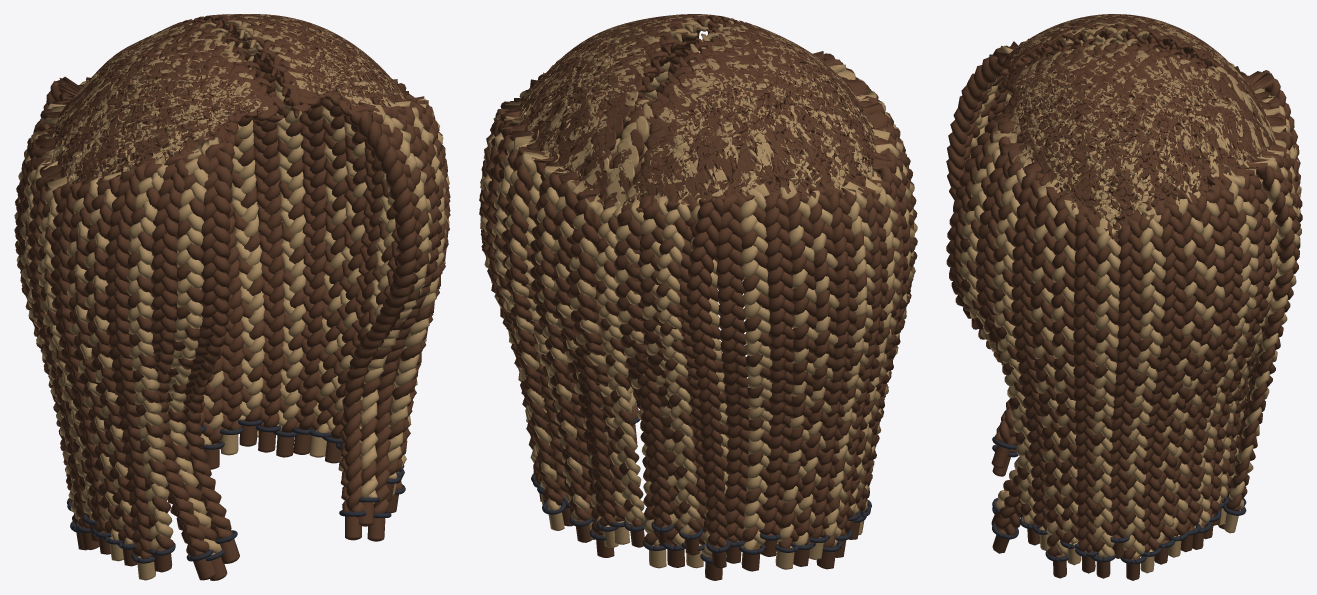
The model's file is Highlights-ad0db36e06bb251-hair.glb.
The picture shows the model from 3 angles, left to right: view 1: azimuth 30°, elevation 25°; view 2: azimuth 150°, elevation 25°; view 3: azimuth 270°, elevation 25°; orthographic projection. The views are drawn at different scales.
Parts seen in each view (by area): view 1: 226 hair / Hair / chestnut226.002, 226 hair / Hair / ties226.002; view 2: 226 hair / Hair / chestnut226.002, 226 hair / Hair / ties226.002; view 3: 226 hair / Hair / chestnut226.002, 226 hair / Hair / ties226.002.
Part boxes in pixels (bbox=[...]): 226 hair / Hair / chestnut226.002: bbox=[14, 14, 450, 580]; 226 hair / Hair / ties226.002: bbox=[67, 419, 405, 563]; 226 hair / Hair / chestnut226.002: bbox=[479, 14, 917, 580]; 226 hair / Hair / ties226.002: bbox=[531, 417, 871, 563]; 226 hair / Hair / chestnut226.002: bbox=[946, 14, 1302, 580]; 226 hair / Hair / ties226.002: bbox=[992, 436, 1246, 564].
Size of the model in its own units: 1.07 by 1.3 by 0.8719.
